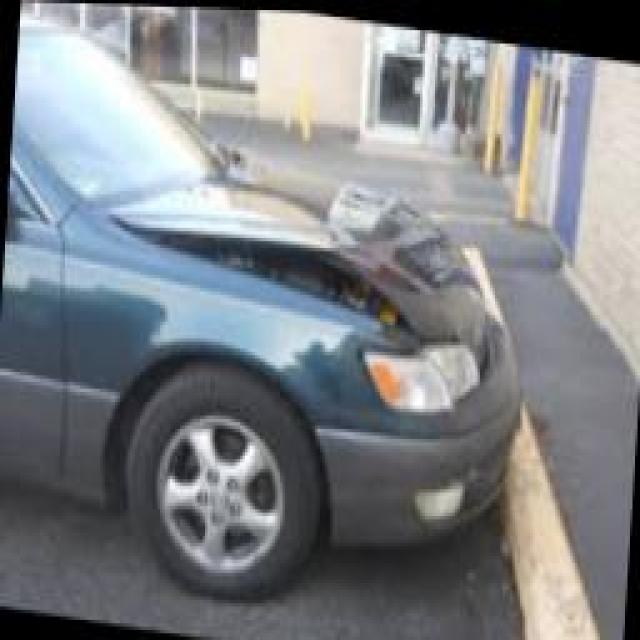Bonnet: (100, 162, 484, 358)
Light: (354, 331, 491, 408)
